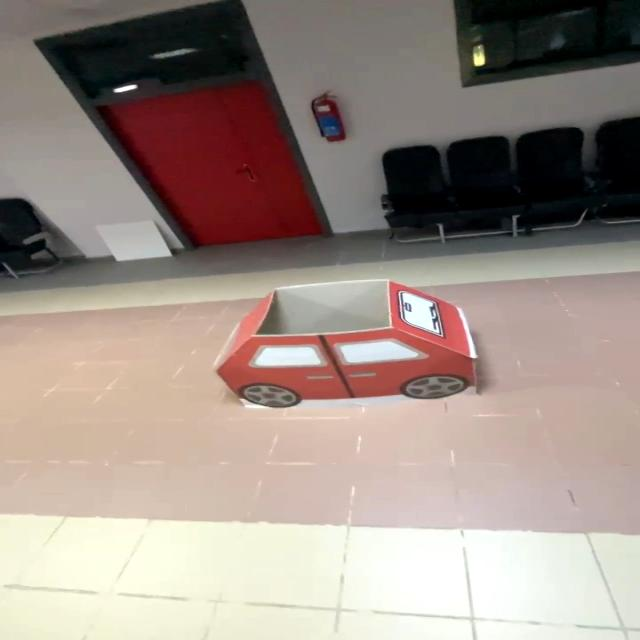red_car: (183, 270, 526, 429)
